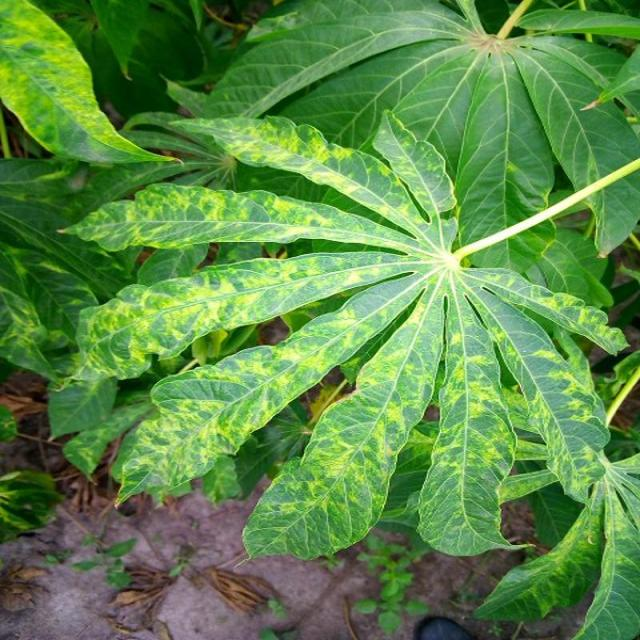cassava leaf: (4, 1, 638, 634), (0, 0, 181, 167)
